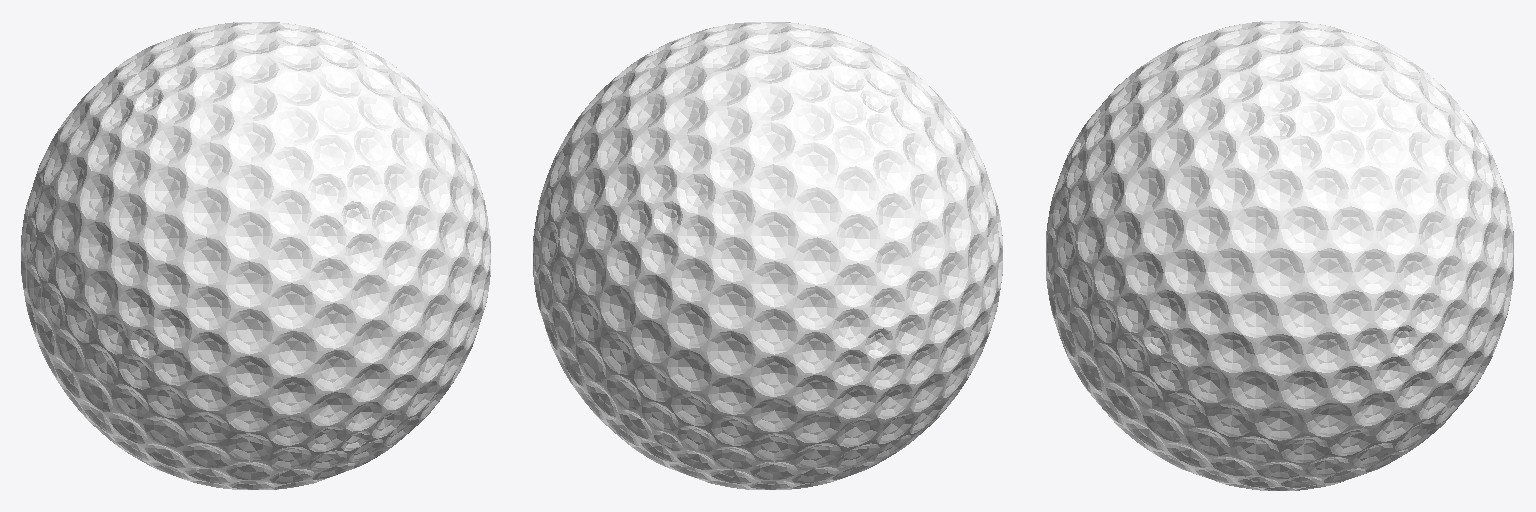
The model's file is golf-ball-v002.obj.
3 views of the same model, side by side, from view 1: azimuth 30°, elevation 25°; view 2: azimuth 150°, elevation 25°; view 3: azimuth 270°, elevation 25° (orthographic).
Visible parts, largest first — view 1: poles, equator; view 2: poles, equator; view 3: poles, equator.
Boxes of the visible parts, x1=… form: poles: x1=34, y1=22, x2=477, y2=489; equator: x1=21, y1=168, x2=490, y2=419; poles: x1=546, y1=22, x2=989, y2=489; equator: x1=533, y1=168, x2=1002, y2=419; poles: x1=1059, y1=21, x2=1500, y2=490; equator: x1=1046, y1=179, x2=1513, y2=419.
Size of the model in its own units: 2.96 by 2.96 by 2.96.